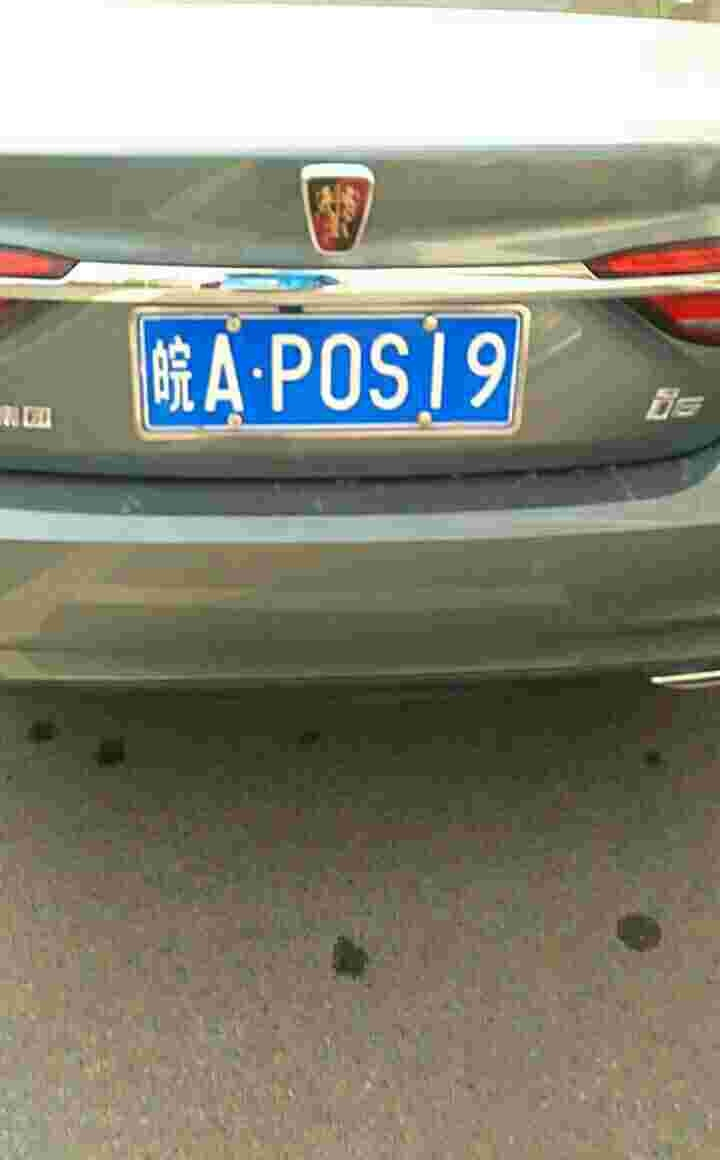car: (143, 306, 511, 435)
